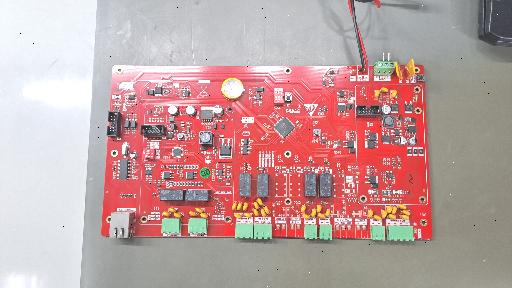var: (404, 60, 416, 78), (395, 61, 403, 79), (380, 210, 388, 219), (300, 204, 307, 214), (199, 212, 210, 218), (194, 207, 205, 213), (367, 210, 374, 219), (253, 201, 260, 210), (242, 202, 249, 211), (231, 201, 237, 211), (173, 212, 185, 217), (260, 209, 267, 217), (257, 198, 264, 206), (166, 207, 177, 212), (373, 215, 382, 221), (311, 209, 317, 218), (398, 204, 407, 210), (388, 214, 397, 220), (316, 204, 322, 213), (264, 206, 270, 215), (237, 202, 243, 211), (234, 213, 243, 219), (391, 89, 397, 98), (400, 215, 410, 220), (325, 208, 330, 218), (188, 211, 198, 216), (161, 212, 171, 217), (374, 90, 379, 100), (318, 213, 325, 220), (302, 213, 310, 219), (253, 209, 259, 217), (244, 212, 252, 218), (402, 210, 410, 216), (387, 206, 393, 214), (380, 87, 389, 92), (390, 207, 395, 214)
